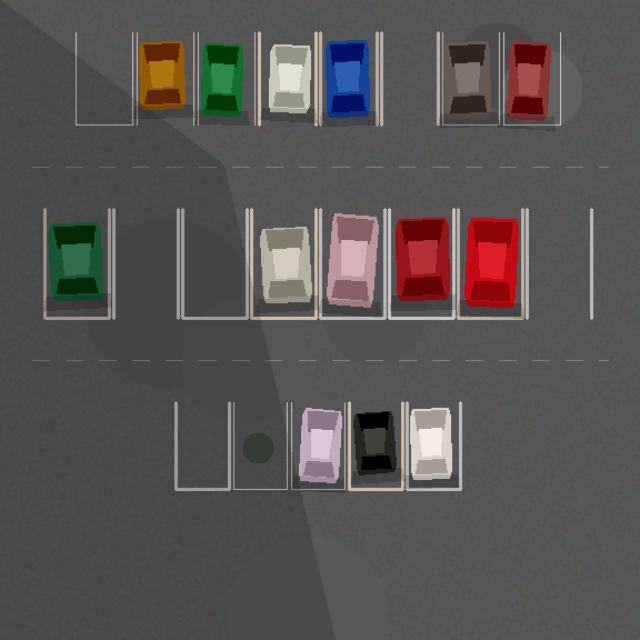space-empty: (113, 209, 178, 318), (182, 209, 247, 318), (527, 209, 591, 318), (381, 32, 438, 124), (76, 32, 132, 124), (233, 402, 287, 489), (176, 402, 229, 489)
space-occupied: (44, 209, 109, 318), (251, 209, 316, 318), (320, 209, 384, 318), (389, 209, 453, 318), (458, 209, 522, 318), (259, 32, 316, 124), (320, 32, 377, 124), (442, 32, 499, 124), (503, 32, 560, 124), (137, 32, 193, 124), (198, 32, 254, 124), (291, 402, 344, 489), (349, 402, 402, 489), (407, 402, 460, 489)
